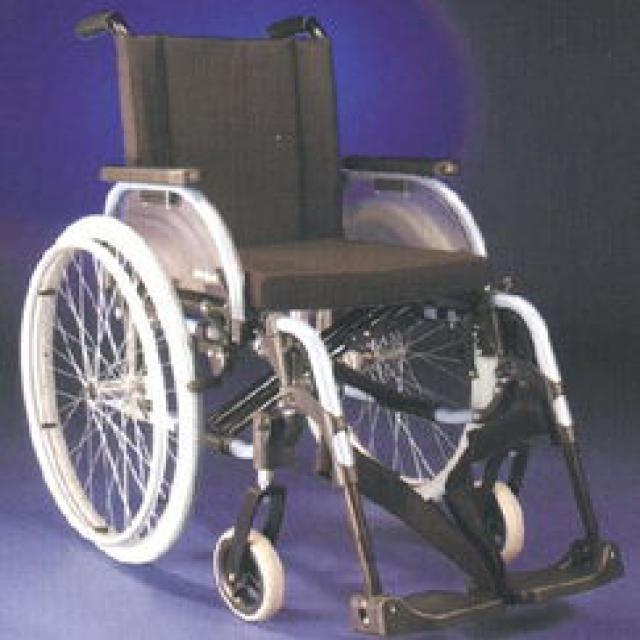wheelchair: (27, 7, 638, 638)
